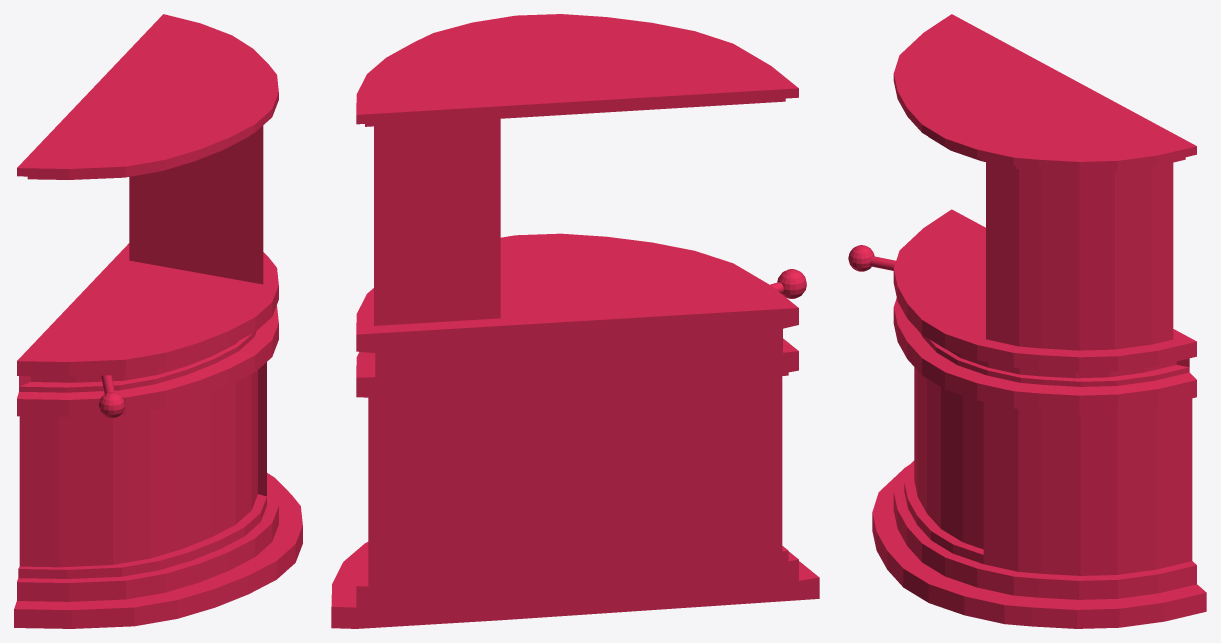
The model's file is cabinetRing_Mdl_Dec_Z2.fbx.
3 renders of one model, left to right at view 1: azimuth 30°, elevation 25°; view 2: azimuth 150°, elevation 25°; view 3: azimuth 270°, elevation 25°, orthographic. The views are drawn at different scales.
Parts seen in each view (by area): view 1: cabinet, Circle.004, Sphere.011; view 2: cabinet, Circle.004; view 3: cabinet, Circle.004, Sphere.011.
Boxes of the visible parts, x1,y1,x2,y2 form: cabinet: (14, 243, 302, 628); Circle.004: (17, 14, 278, 284); Sphere.011: (99, 392, 124, 418); cabinet: (331, 233, 819, 628); Circle.004: (356, 14, 798, 325); cabinet: (872, 209, 1206, 628); Circle.004: (893, 14, 1196, 350); Sphere.011: (848, 245, 874, 271).
Size of the model in its own units: 174 by 227 by 162.
